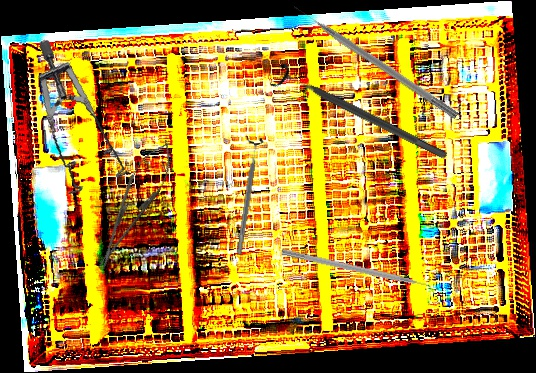Chopper: (279, 248, 437, 299)
Fixation Ring: (269, 59, 453, 170), (229, 136, 265, 256)
Needle Holder: (85, 133, 183, 276)
Pusher: (291, 1, 461, 120)
Speculum: (11, 37, 153, 205)
